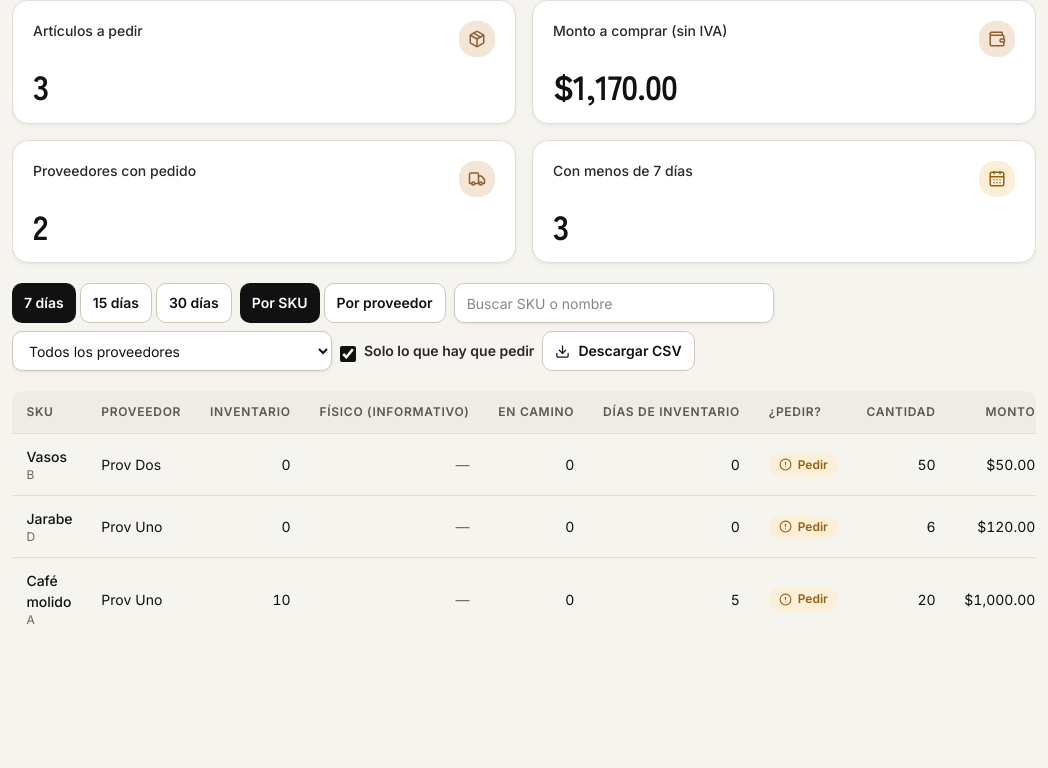
Scenario: Qué pedir por proveedor: líneas desplegables › cerrado por omisión; al abrirlo muestra solo los artículos que hay que pedirle, con cantidad y monto
The image size is (1048, 768).
Step 1. Click the button "Por proveedor" → (385, 303), box [324,283,446,323]
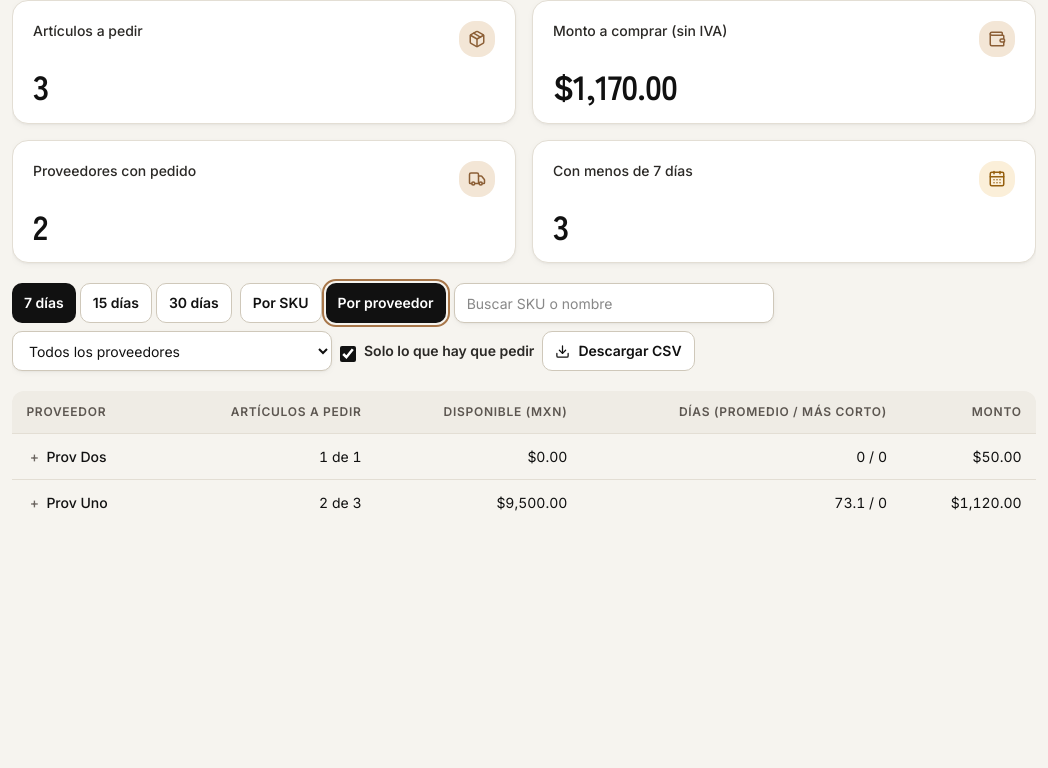
Expected: the text "Café molido" is gone
Step 2. Click the button named "Ver los artículos de Prov Uno" → (34, 503), box [26,492,42,513]
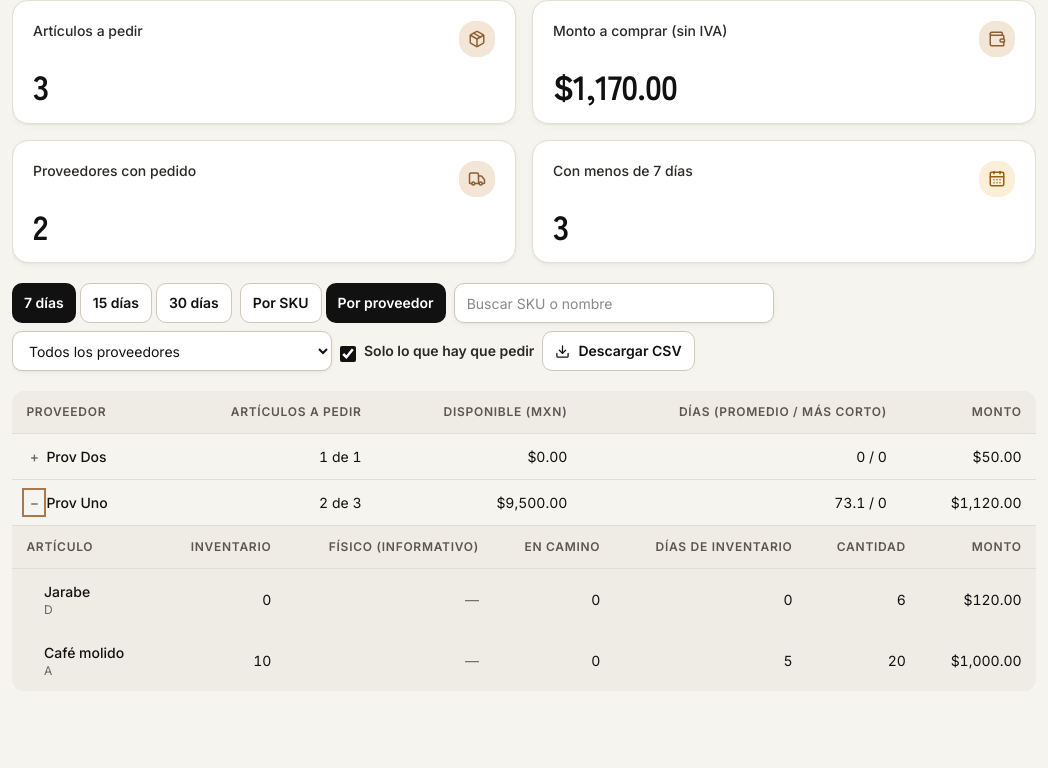
Expected: the text "Vasos" is not shown
Expected: the text "Café molido" is shown, [44,644,124,661]
Expected: the text "Jarabe" is shown, [44,583,90,600]
